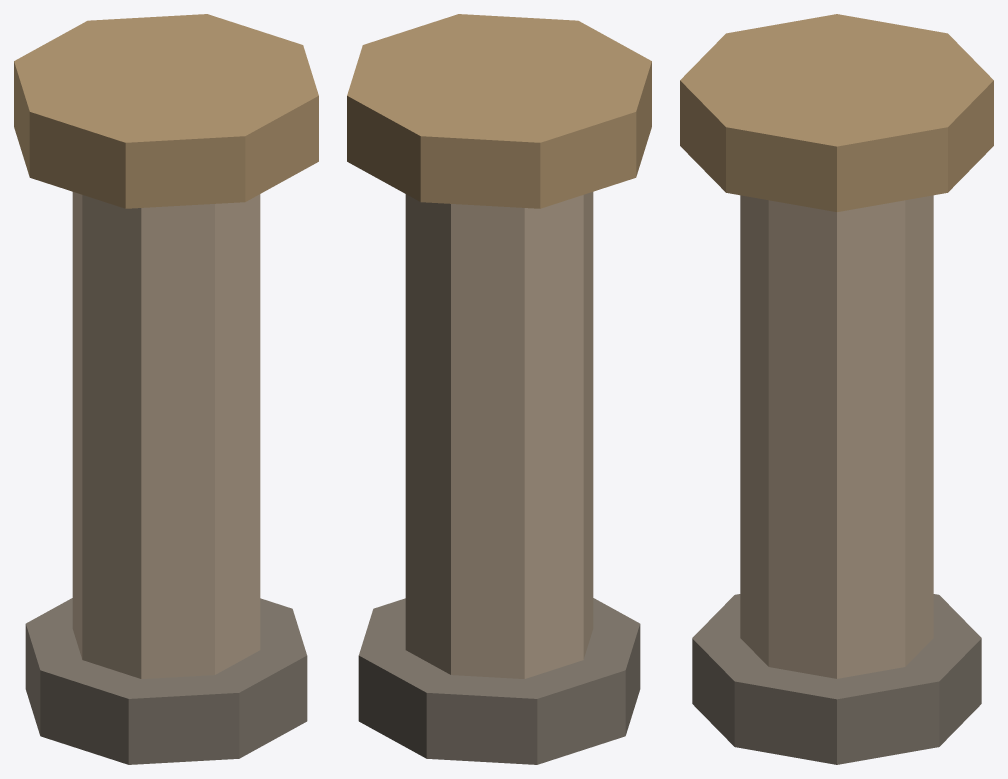
File: pillar.glb
3 views of the same model, side by side, from view 1: azimuth 30°, elevation 25°; view 2: azimuth 150°, elevation 25°; view 3: azimuth 270°, elevation 25° (orthographic).
Visible parts, largest first — view 1: pillar; view 2: pillar; view 3: pillar.
Boxes of the visible parts, x1,y1,x2,y2 form: pillar: [14, 14, 318, 764]; pillar: [347, 14, 651, 764]; pillar: [680, 14, 993, 764].
Size of the model in its own units: 1.3 by 2.85 by 1.3.
